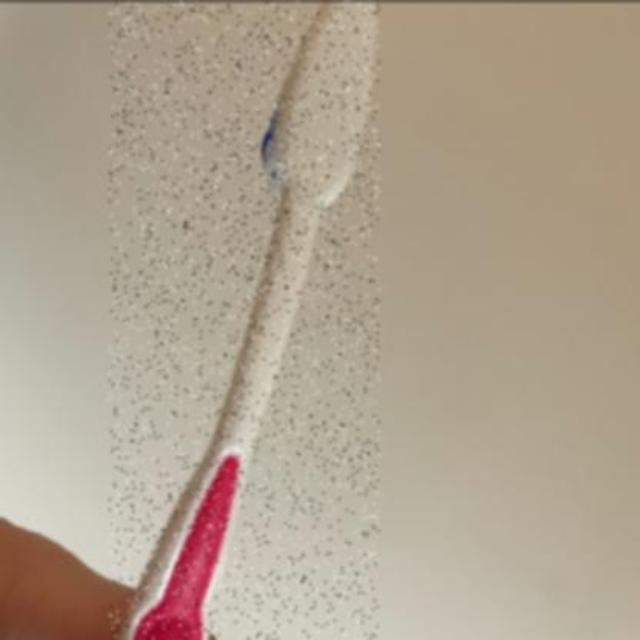toothbrush: (110, 0, 380, 640)
